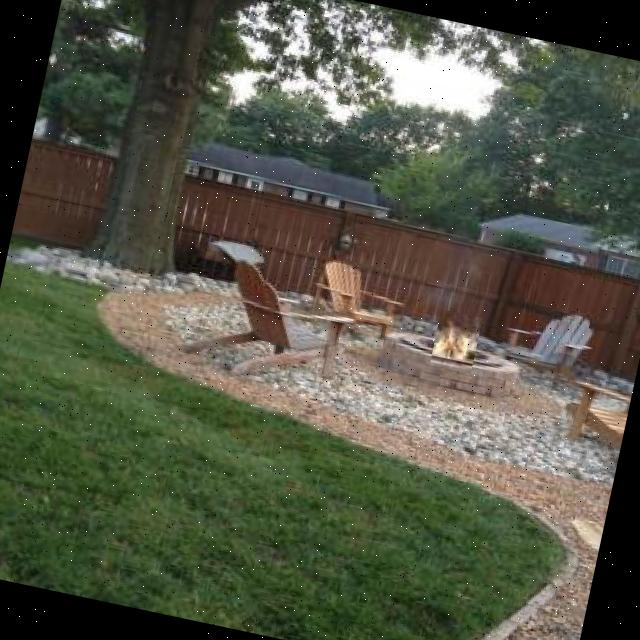fire: (429, 309, 482, 373)
